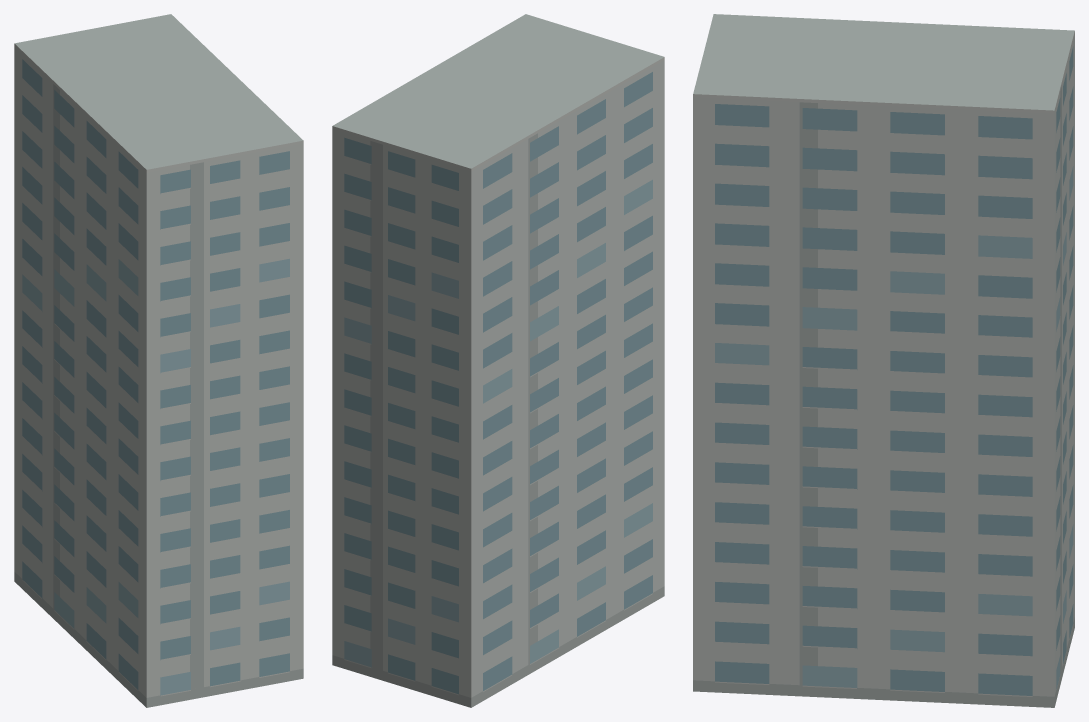
The model's file is residential-70845c73-7350-4cad-9984-2ac99067d6a2.glb.
3 views of the same model, side by side, from view 1: azimuth 30°, elevation 25°; view 2: azimuth 150°, elevation 25°; view 3: azimuth 270°, elevation 25° (orthographic). The views are drawn at different scales.
Parts seen in each view (by area): view 1: residential-70845c73-7350-4cad-9984-2ac99067d6a2.tmp; view 2: residential-70845c73-7350-4cad-9984-2ac99067d6a2.tmp; view 3: residential-70845c73-7350-4cad-9984-2ac99067d6a2.tmp.
Part boxes in pixels (x1,y1,x2,y2): residential-70845c73-7350-4cad-9984-2ac99067d6a2.tmp: (14, 14, 303, 707); residential-70845c73-7350-4cad-9984-2ac99067d6a2.tmp: (332, 14, 664, 707); residential-70845c73-7350-4cad-9984-2ac99067d6a2.tmp: (693, 14, 1074, 707).
Bounding box in the file's own units: 14.91 × 43 × 24.91.
